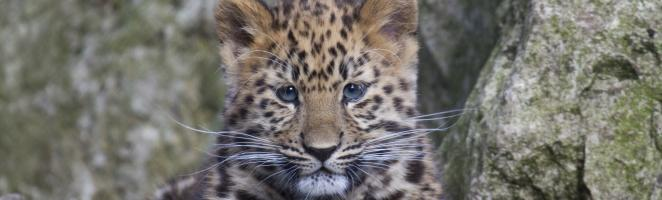amur_leopard: (186, 2, 464, 198)
